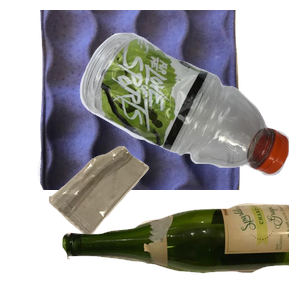glass: (60, 201, 300, 300)
paper: (35, 10, 268, 190)
plastic: (77, 30, 300, 198)
trash: (46, 144, 188, 300)
